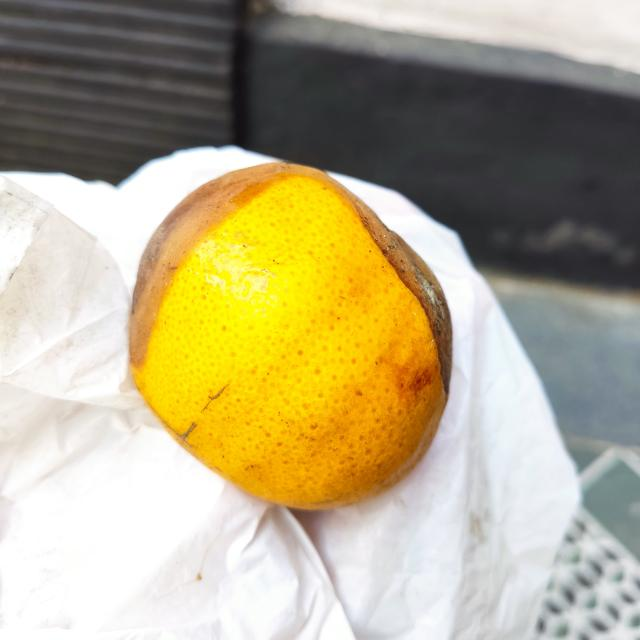orange: (127, 162, 455, 508)
